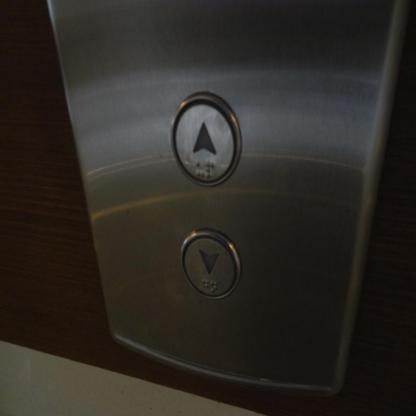down: (180, 229, 243, 302)
up: (169, 91, 245, 186)
